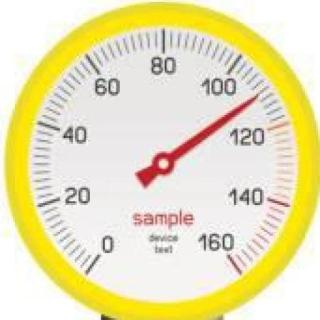gauge: (0, 0, 320, 320), (74, 238, 118, 278), (213, 240, 253, 282), (151, 149, 176, 177), (248, 89, 264, 103)
